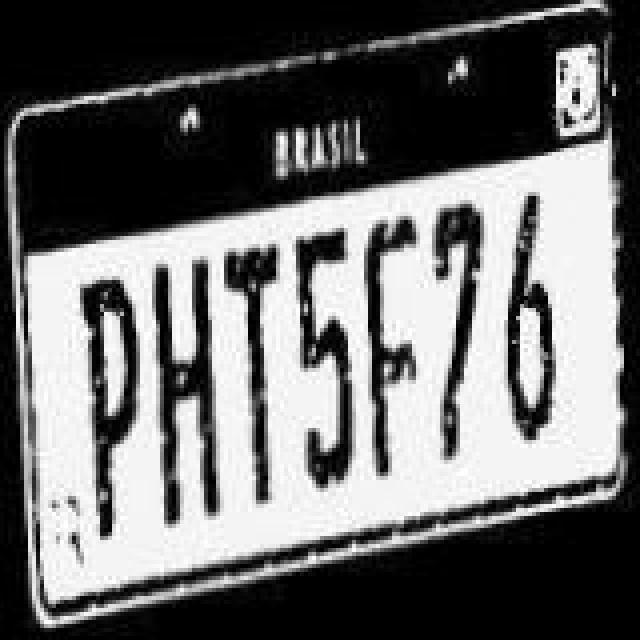5: (286, 224, 362, 508)
6: (490, 164, 566, 436)
7: (428, 182, 500, 458)
F: (366, 200, 426, 480)
H: (144, 252, 228, 532)
P: (76, 262, 160, 562)
T: (214, 242, 286, 510)
